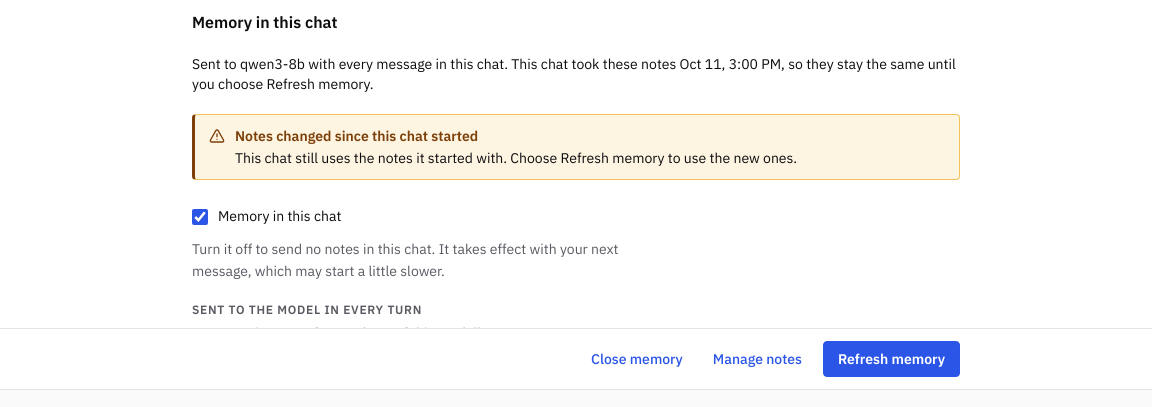
Test case: Refresh memory and the notes that changed › takes the notes again from the server, shows what it answers, and says so
What coordinates should you click on to do the following:
click the button "Refresh memory"
I would click on:
 (891, 359)
Its box is [823, 341, 960, 377].
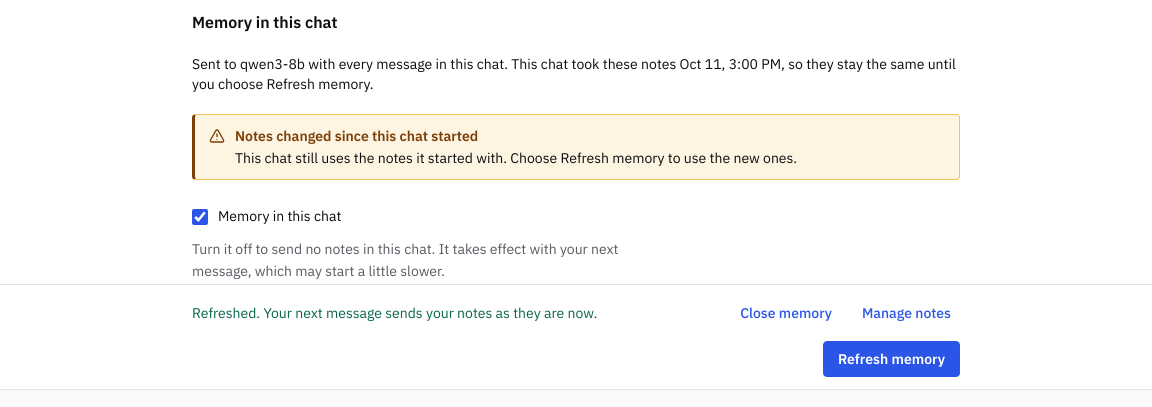
Now the message reads "Refreshed. Your next message sends your notes as they are now.", box [192, 304, 597, 322]
